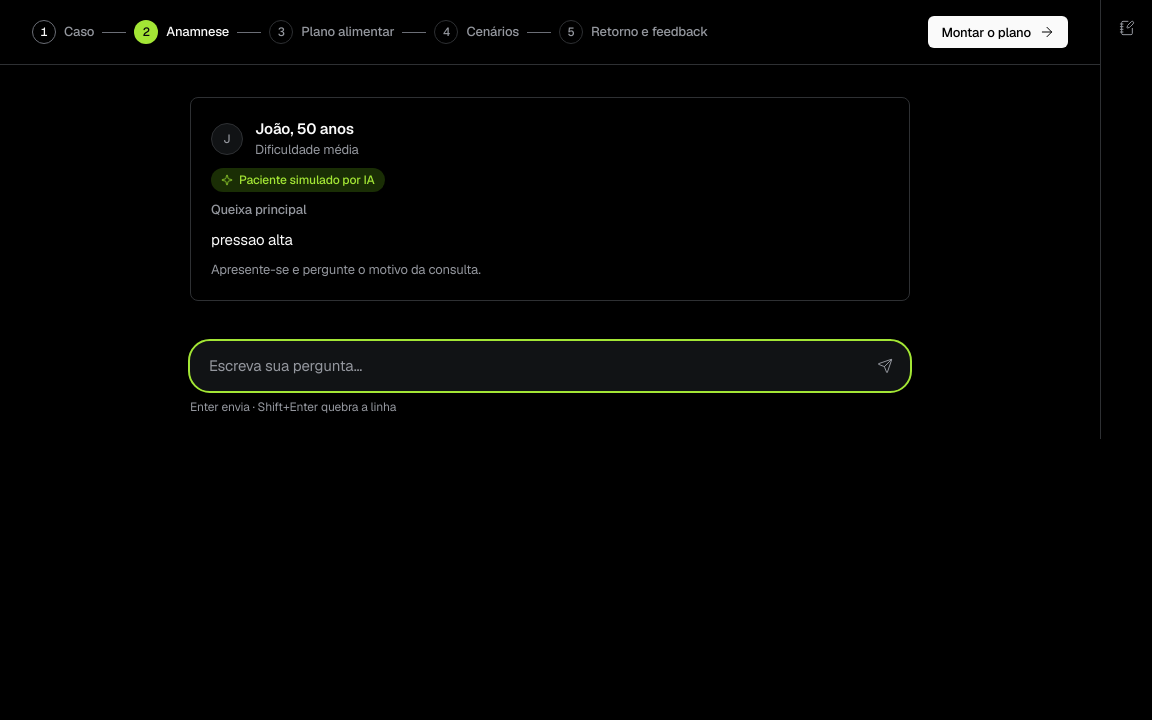
it: AnamneseChat › devolve a pergunta nao salva ao campo e reenvia no tentar de novo
Expected: the text "João, 50 anos" is shown, left=255, top=118, right=359, bottom=140
In the text box named "Pergunta para o paciente": [534, 366] box left=209, top=348, right=859, bottom=384, type "Qual sua rotina?"
Then press Enter
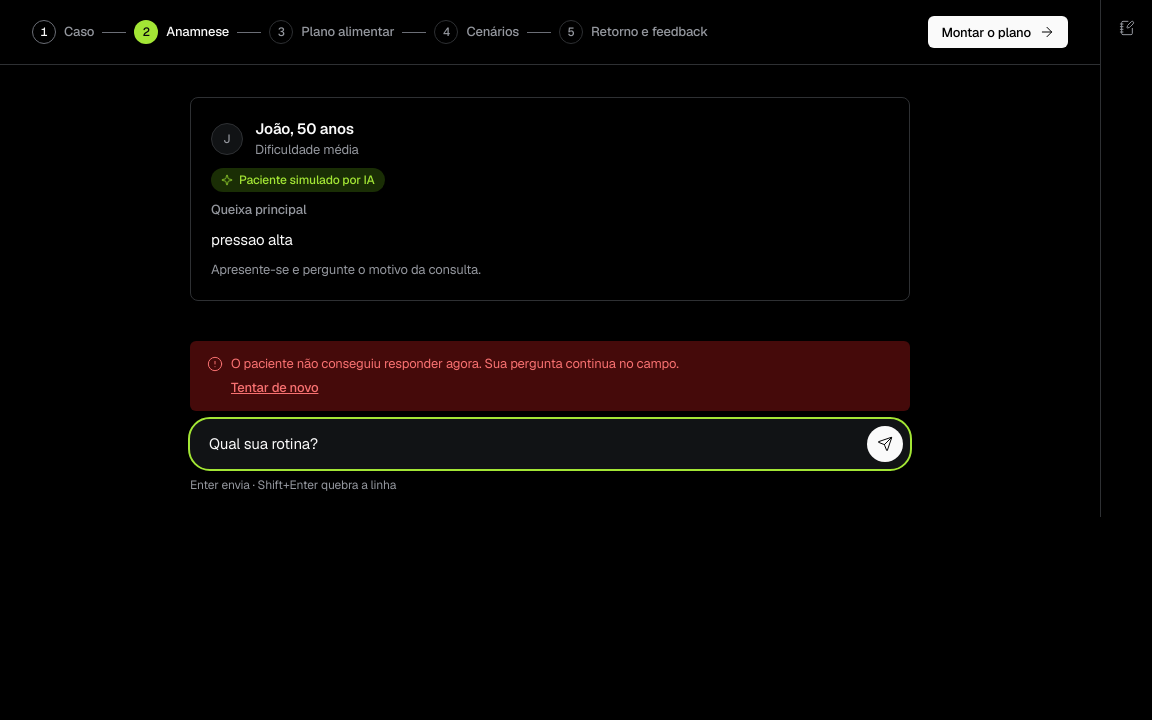
Expected: the text box named "Pergunta para o paciente" is enabled, left=209, top=426, right=859, bottom=462
Now the message shows "Sua pergunta continua no campo", box left=231, top=355, right=679, bottom=372
Click the button "Tentar de novo": [275, 388] box left=231, top=378, right=318, bottom=398
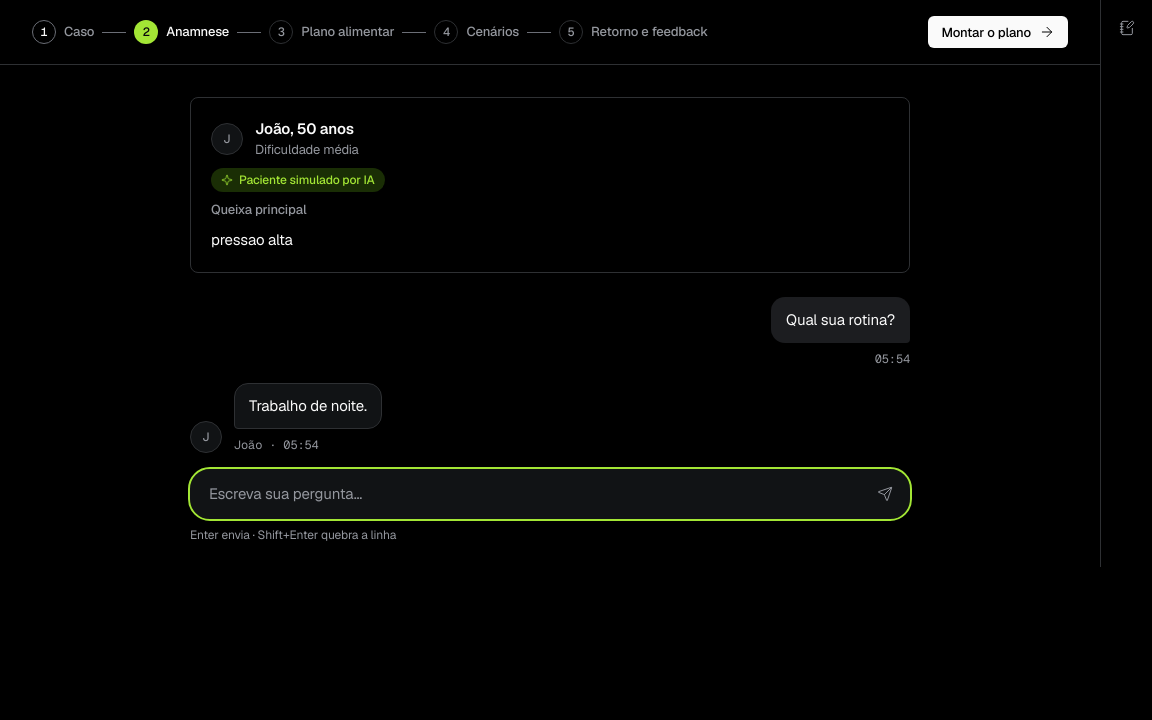
Now the text "Trabalho de noite." is shown, box left=234, top=383, right=382, bottom=429
Now the text "Qual sua rotina?" is shown, box left=771, top=297, right=910, bottom=343
Now the message is gone
